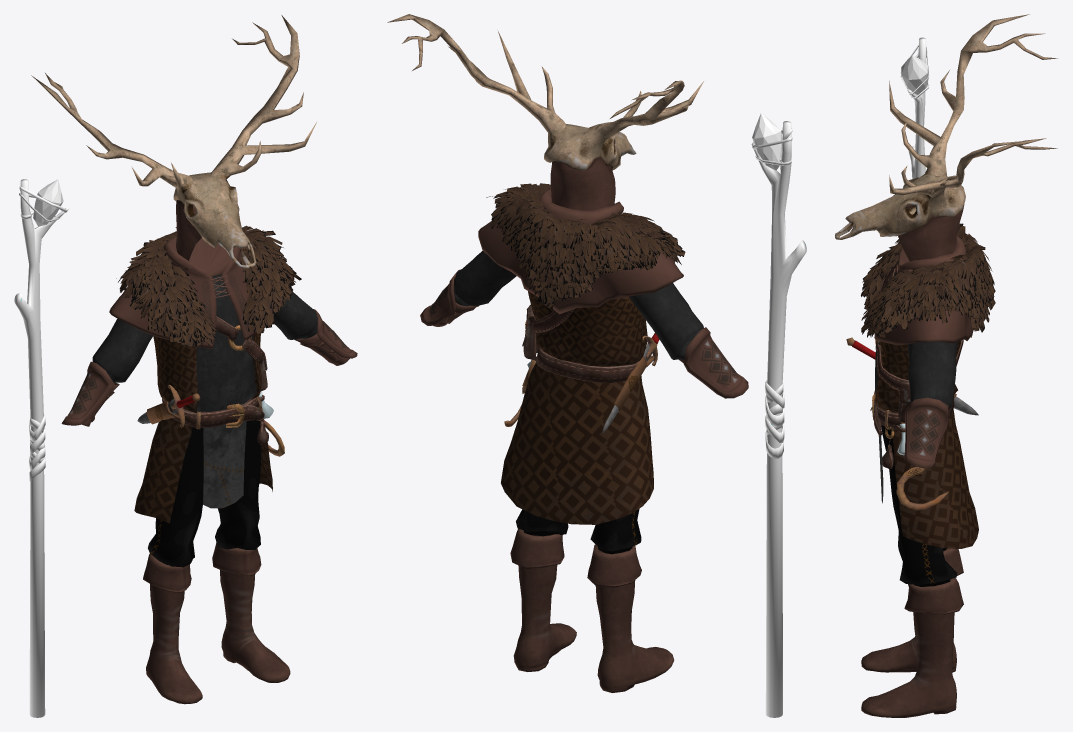
Rendered from Robe.fbx.
3 renders of one model, left to right at view 1: azimuth 30°, elevation 25°; view 2: azimuth 150°, elevation 25°; view 3: azimuth 270°, elevation 25°, orthographic. The views are drawn at different scales.
Parts seen in each view (by area): view 1: Druid_Clothes_0.001, Head_Head_0.001, Fur_Fur_0.001, Stuff_Staff.001_0.001, Gear_Gear_0.001; view 2: Druid_Clothes_0.001, Fur_Fur_0.001, Stuff_Staff.001_0.001, Head_Head_0.001, Gear_Gear_0.001; view 3: Druid_Clothes_0.001, Head_Head_0.001, Fur_Fur_0.001, Gear_Gear_0.001, Stuff_Staff.001_0.001.
Boxes of the visible parts, bbox=[...] form: Druid_Clothes_0.001: bbox=[61, 236, 357, 704]; Head_Head_0.001: bbox=[31, 15, 316, 268]; Fur_Fur_0.001: bbox=[116, 225, 301, 346]; Stuff_Staff.001_0.001: bbox=[14, 179, 68, 717]; Gear_Gear_0.001: bbox=[137, 316, 284, 456]; Druid_Clothes_0.001: bbox=[420, 189, 748, 692]; Fur_Fur_0.001: bbox=[486, 183, 685, 308]; Stuff_Staff.001_0.001: bbox=[751, 113, 806, 717]; Head_Head_0.001: bbox=[387, 14, 703, 210]; Gear_Gear_0.001: bbox=[504, 304, 659, 433]; Druid_Clothes_0.001: bbox=[861, 236, 978, 717]; Head_Head_0.001: bbox=[835, 14, 1057, 261]; Fur_Fur_0.001: bbox=[861, 223, 995, 337]; Gear_Gear_0.001: bbox=[846, 337, 978, 510]; Stuff_Staff.001_0.001: bbox=[900, 37, 929, 178].
Size of the model in its own units: 130506 by 214789 by 71243.
